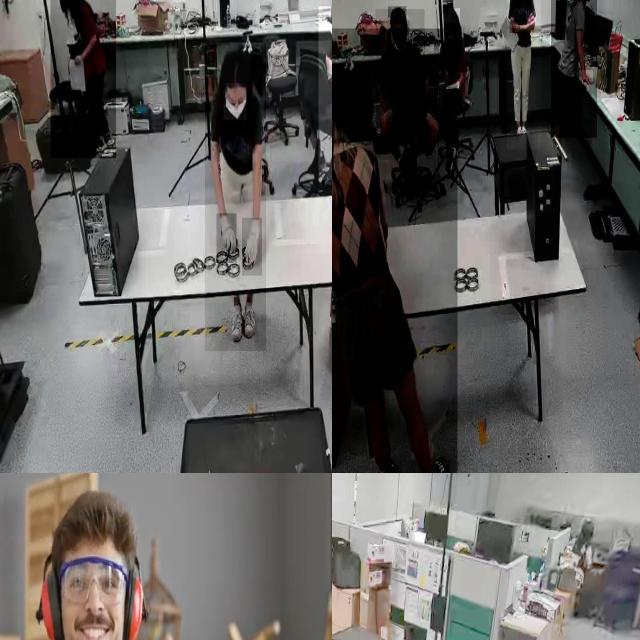Ear-protection: (33, 559, 61, 640), (124, 554, 146, 640)
face_mask: (224, 83, 246, 120), (445, 26, 459, 52), (563, 0, 575, 10)
face_nomask: (391, 22, 407, 46)
glasses: (59, 557, 127, 607)
hand_glove: (242, 218, 262, 276), (217, 213, 237, 264)
hand_noglove: (579, 70, 593, 84), (73, 51, 83, 66), (510, 20, 520, 34), (526, 11, 536, 23), (329, 60, 332, 81)
head_nohelmet: (221, 42, 251, 82), (332, 69, 349, 98), (444, 8, 461, 24), (388, 6, 407, 19)
person: (332, 28, 458, 473), (0, 488, 207, 640), (205, 44, 267, 352), (50, 0, 116, 159), (375, 9, 425, 141), (550, 0, 597, 138), (506, 0, 541, 150), (318, 6, 332, 181)
shoes: (228, 304, 244, 343), (244, 301, 256, 343)
